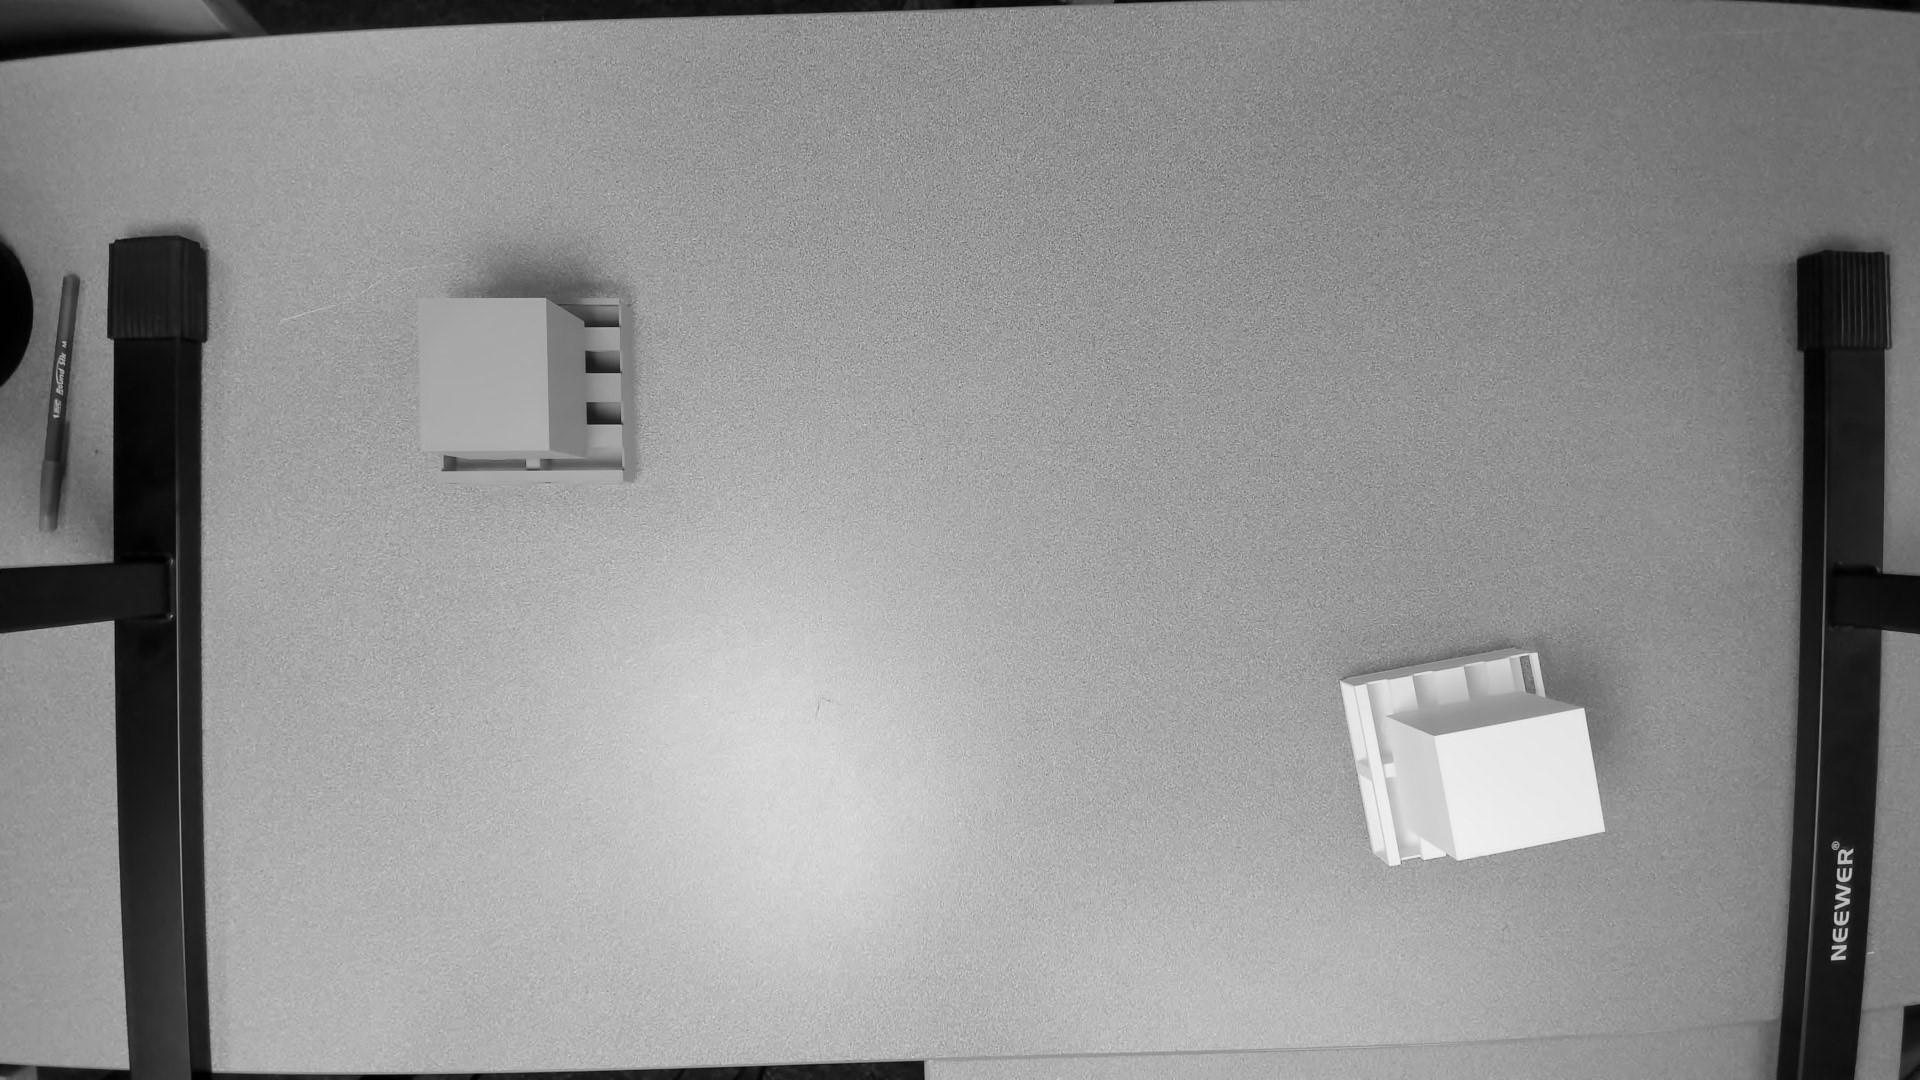grey pallet: (410, 273, 658, 506)
white pallet: (1324, 641, 1615, 887)
